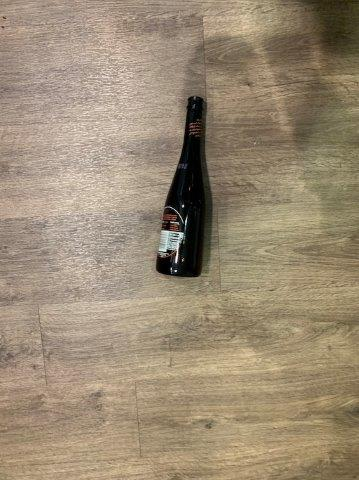botolkaca: (155, 97, 207, 278)
